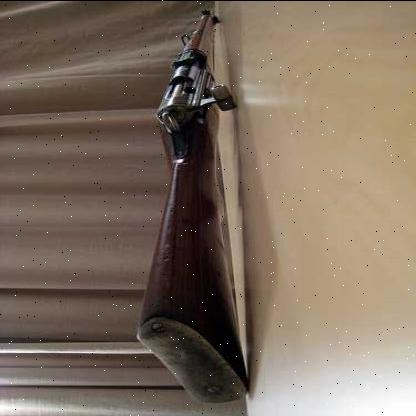rifle: (113, 5, 272, 406)
